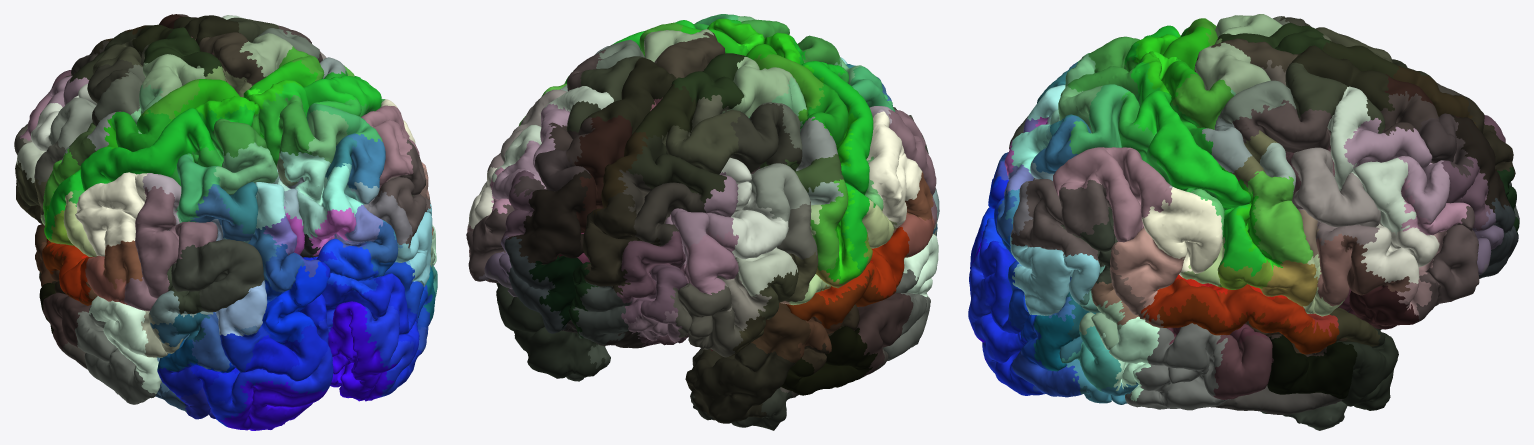
The model's file is cortex-hcp-mmp.glb.
3 renders of one model, left to right at view 1: azimuth 30°, elevation 25°; view 2: azimuth 150°, elevation 25°; view 3: azimuth 270°, elevation 25°, orthographic. The views are drawn at different scales.
Visible parts, largest first — view 1: hcp-mmp:left:51, hcp-mmp:left:149, hcp-mmp:left:151, hcp-mmp:right:1, hcp-mmp:left:148, hcp-mmp:left:133, hcp-mmp:left:137, hcp-mmp:left:1, hcp-mmp:right:5, hcp-mmp:left:13, hcp-mmp:left:5, hcp-mmp:left:4 (+84 smaller); view 2: hcp-mmp:left:131, hcp-mmp:left:51, hcp-mmp:right:131, hcp-mmp:right:72, hcp-mmp:left:72, hcp-mmp:left:148, hcp-mmp:left:77, hcp-mmp:left:132, hcp-mmp:left:87, hcp-mmp:left:84, hcp-mmp:left:67, hcp-mmp:left:68 (+70 smaller); view 3: hcp-mmp:right:51, hcp-mmp:right:133, hcp-mmp:right:149, hcp-mmp:right:151, hcp-mmp:right:84, hcp-mmp:right:86, hcp-mmp:right:148, hcp-mmp:right:143, hcp-mmp:right:83, hcp-mmp:right:175, hcp-mmp:right:132, hcp-mmp:right:56 (+70 smaller).
Part boxes in pixels (box(x1,y1,x2,y2)): hcp-mmp:left:51: box(45, 104, 254, 239); hcp-mmp:left:149: box(124, 186, 217, 311); hcp-mmp:left:151: box(171, 239, 264, 312); hcp-mmp:right:1: box(328, 301, 399, 401); hcp-mmp:left:148: box(75, 172, 148, 256); hcp-mmp:left:133: box(75, 306, 156, 404); hcp-mmp:left:137: box(89, 296, 161, 394); hcp-mmp:left:1: box(220, 380, 327, 430); hcp-mmp:right:5: box(312, 242, 419, 388); hcp-mmp:left:13: box(261, 261, 328, 345); hcp-mmp:left:5: box(204, 257, 330, 405); hcp-mmp:left:4: box(208, 314, 333, 426); hcp-mmp:left:131: box(685, 343, 795, 423); hcp-mmp:left:51: box(790, 35, 873, 271); hcp-mmp:right:131: box(496, 283, 605, 378); hcp-mmp:right:72: box(505, 170, 591, 264); hcp-mmp:left:72: box(583, 192, 660, 295); hcp-mmp:left:148: box(866, 111, 922, 227); hcp-mmp:left:77: box(670, 283, 743, 357); hcp-mmp:left:132: box(781, 326, 877, 395); hcp-mmp:left:87: box(618, 169, 705, 245); hcp-mmp:left:84: box(721, 157, 788, 259); hcp-mmp:left:67: box(730, 103, 802, 173); hcp-mmp:left:68: box(662, 110, 740, 174); hcp-mmp:right:51: box(1130, 62, 1265, 276); hcp-mmp:right:133: box(1125, 323, 1230, 410); hcp-mmp:right:149: box(1053, 147, 1172, 242); hcp-mmp:right:151: box(1011, 179, 1111, 263); hcp-mmp:right:84: box(1327, 86, 1416, 234); hcp-mmp:right:86: box(1343, 118, 1450, 222); hcp-mmp:right:148: box(1142, 187, 1222, 277); hcp-mmp:right:143: box(1010, 234, 1099, 315); hcp-mmp:right:83: box(1291, 147, 1380, 227); hcp-mmp:right:175: box(1140, 278, 1314, 333); hcp-mmp:right:132: box(1267, 335, 1357, 398); hcp-mmp:right:56: box(1247, 170, 1313, 263).
Size of the model in its own units: 0.137 by 0.1163 by 0.168.
